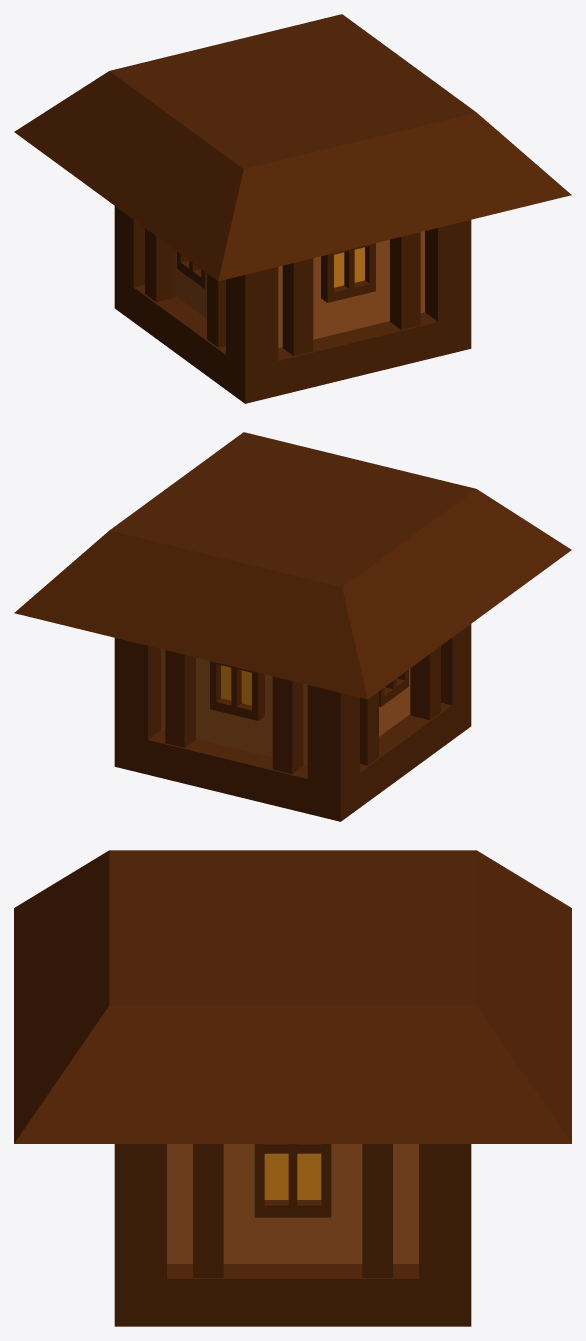
File: City1House4.fbx
The picture shows the model from 3 angles, top to bottom: view 1: azimuth 30°, elevation 25°; view 2: azimuth 150°, elevation 25°; view 3: azimuth 270°, elevation 25°; orthographic projection. The views are drawn at different scales.
Visible parts, largest first — view 1: Cube.035; view 2: Cube.035; view 3: Cube.035.
Boxes of the visible parts, x1,y1,x2,y2 form: Cube.035: [14, 14, 571, 403]; Cube.035: [14, 432, 571, 821]; Cube.035: [14, 850, 571, 1326].
Bounding box in the file's own units: 156 × 100 × 156.
